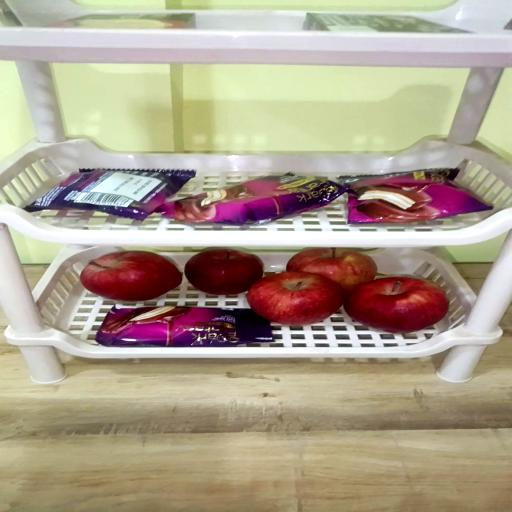Apple: (344, 278, 448, 334), (248, 273, 345, 327), (79, 252, 181, 303), (287, 249, 378, 294), (187, 250, 266, 296)
Choco Fills: (304, 10, 468, 34), (46, 11, 193, 30)
Choco Pie: (161, 174, 346, 229), (24, 171, 194, 223), (341, 170, 492, 227), (97, 306, 275, 349)
